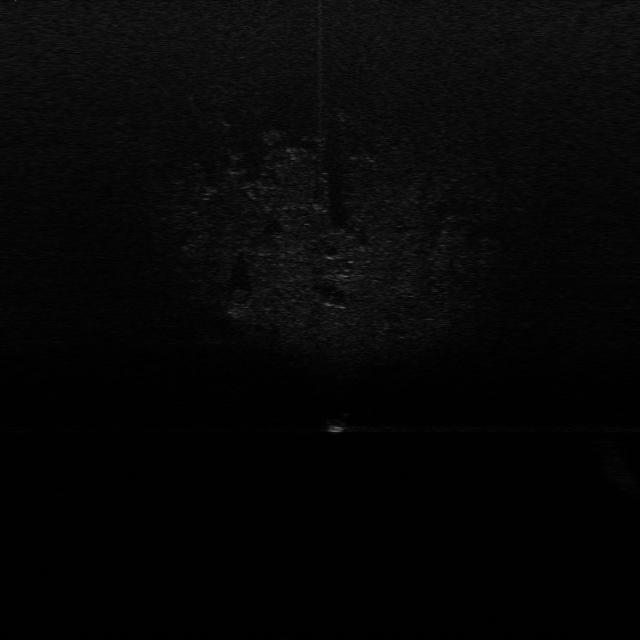square cage: (320, 409, 364, 438)
